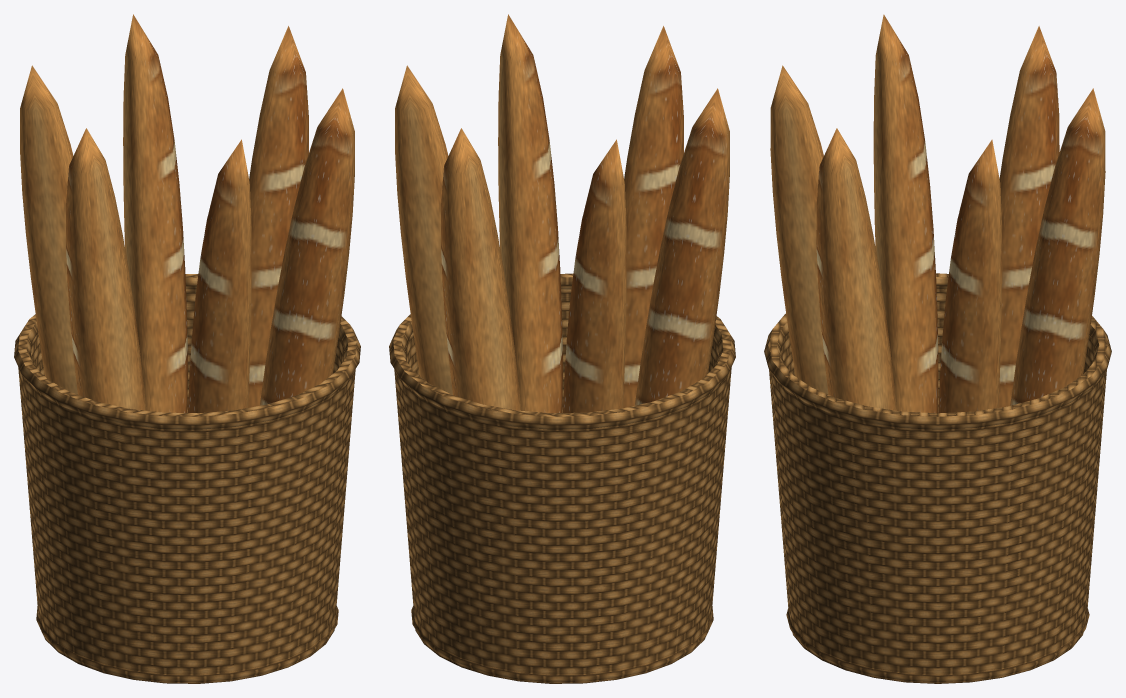
Rendered from sk_bakery_basket_baguette.glb.
The picture shows the model from 3 angles, left to right: view 1: azimuth 30°, elevation 25°; view 2: azimuth 150°, elevation 25°; view 3: azimuth 270°, elevation 25°; orthographic projection.
Visible parts, largest first — view 1: sk_bakery_basket_baguette; view 2: sk_bakery_basket_baguette; view 3: sk_bakery_basket_baguette.
Boxes of the visible parts, bbox=[...] form: sk_bakery_basket_baguette: bbox=[14, 14, 360, 683]; sk_bakery_basket_baguette: bbox=[389, 14, 735, 683]; sk_bakery_basket_baguette: bbox=[764, 14, 1111, 683].
Size of the model in its own units: 0.351 by 0.6064 by 0.351.
Materials: 2 (2 with a texture image).
